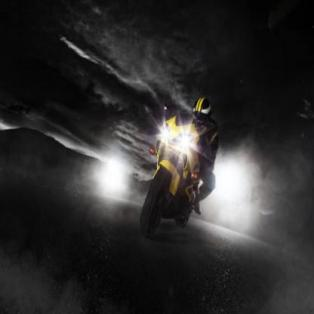Motocicleta: (138, 106, 213, 235)
